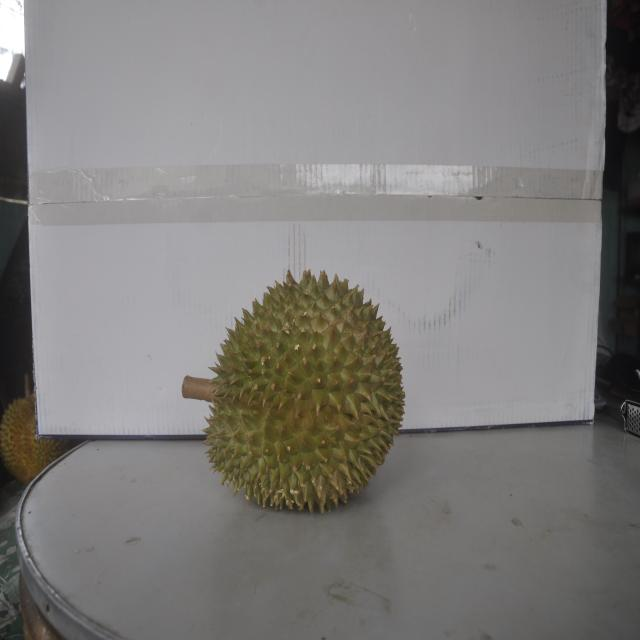mature: (201, 266, 412, 514), (1, 376, 74, 485)
